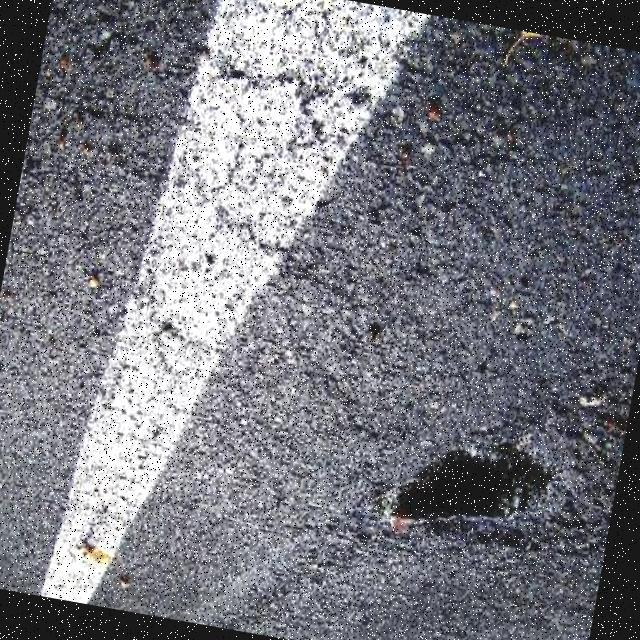Pothole: (393, 443, 553, 527)
